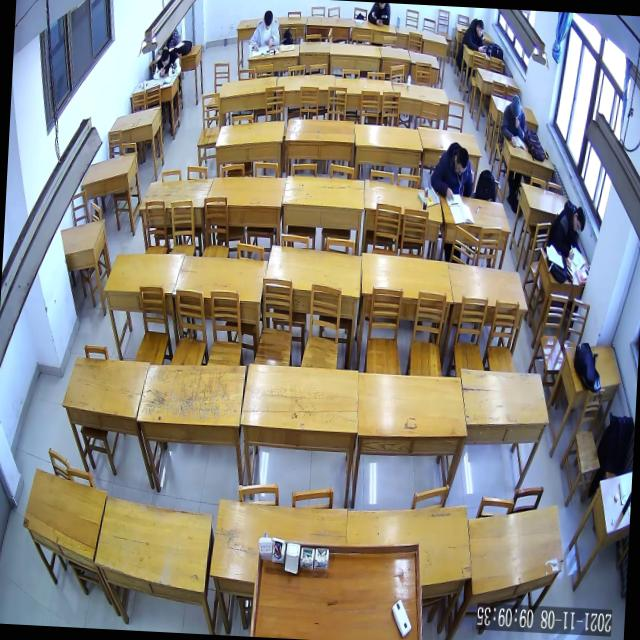down: (454, 147, 469, 176), (572, 206, 586, 234), (511, 97, 522, 120), (262, 10, 274, 30), (160, 48, 170, 68), (475, 18, 484, 38)
sit: (430, 140, 475, 200), (548, 199, 587, 260), (248, 8, 282, 52), (500, 94, 528, 147), (152, 48, 182, 81), (462, 18, 488, 52)
